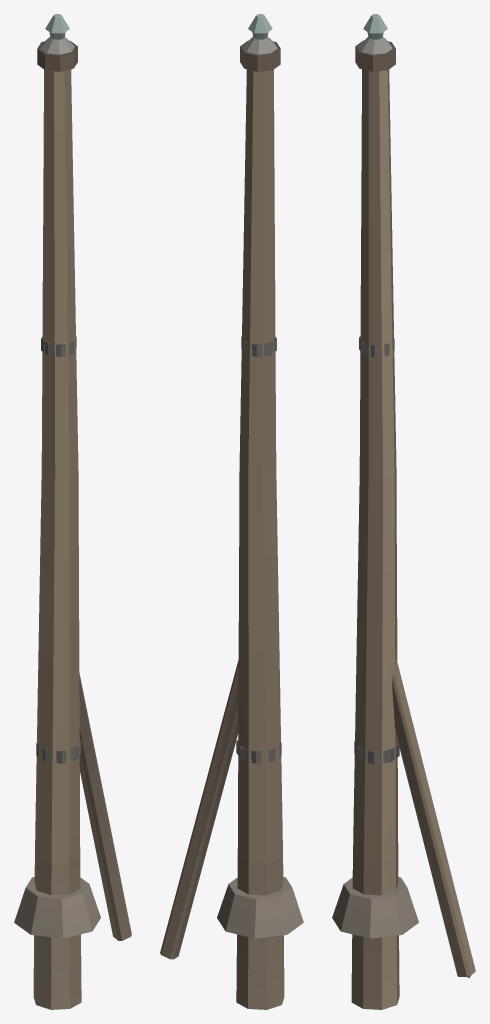
File: pole.glb
The picture shows the model from 3 angles, left to right: view 1: azimuth 30°, elevation 25°; view 2: azimuth 150°, elevation 25°; view 3: azimuth 330°, elevation 25°; orthographic projection.
Bounding box in the file's own units: 0.9467 × 7.42 × 0.5543.
